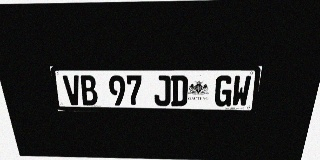7: (125, 75, 143, 106)
9: (108, 75, 126, 106)
B: (79, 75, 98, 105)
D: (171, 75, 188, 106)
G: (214, 75, 234, 107)
J: (154, 75, 170, 106)
V: (62, 75, 82, 105)
W: (231, 75, 252, 107)
